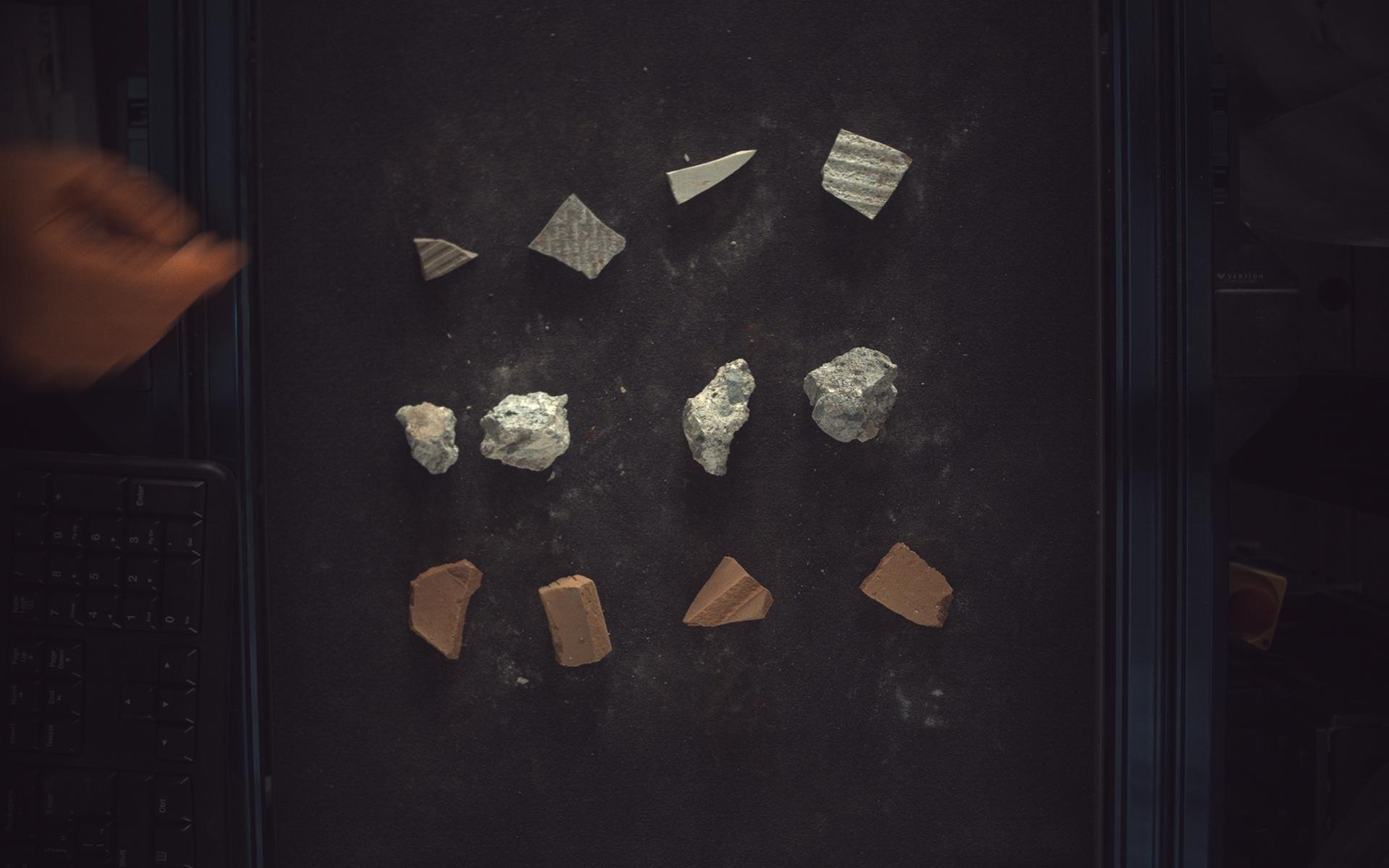brick: (862, 543, 954, 629), (409, 560, 483, 660), (540, 575, 613, 668), (684, 558, 773, 628)
concrete: (805, 347, 899, 442), (684, 358, 756, 476), (480, 391, 570, 471), (396, 402, 459, 475)
tile: (529, 192, 626, 278), (823, 128, 914, 218), (668, 149, 756, 203), (414, 237, 477, 280)
